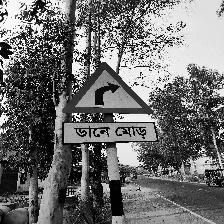Right-turn: (60, 63, 159, 146)
